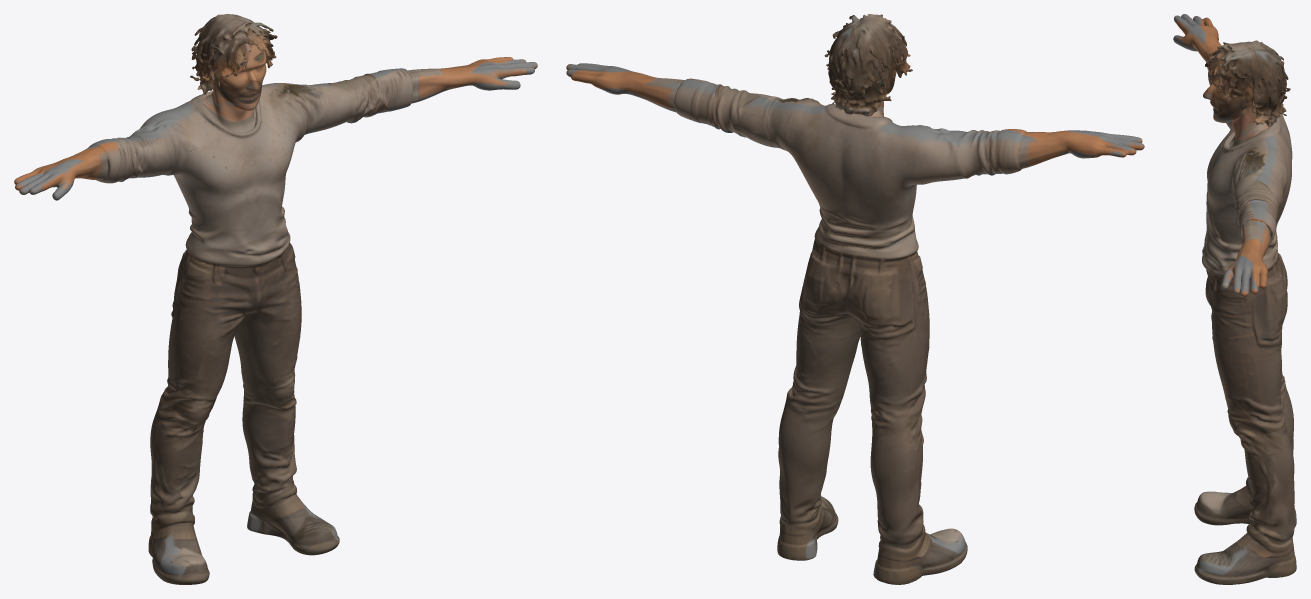
The model's file is isometric character 3d model.glb.
The picture shows the model from 3 angles, left to right: view 1: azimuth 30°, elevation 25°; view 2: azimuth 150°, elevation 25°; view 3: azimuth 270°, elevation 25°; orthographic projection. The views are drawn at different scales.
Visible parts, largest first — view 1: tripo_node_40b0e512-a1db-4c59-a2c2-f48ed04e55c3; view 2: tripo_node_40b0e512-a1db-4c59-a2c2-f48ed04e55c3; view 3: tripo_node_40b0e512-a1db-4c59-a2c2-f48ed04e55c3.
Part boxes in pixels (left/top/right/bottom): tripo_node_40b0e512-a1db-4c59-a2c2-f48ed04e55c3: left=14, top=14, right=537, bottom=584; tripo_node_40b0e512-a1db-4c59-a2c2-f48ed04e55c3: left=566, top=14, right=1144, bottom=584; tripo_node_40b0e512-a1db-4c59-a2c2-f48ed04e55c3: left=1173, top=14, right=1296, bottom=584.
Size of the model in its own units: 1 by 0.9332 by 0.2072.
Materials: 1 (1 with a texture image).
